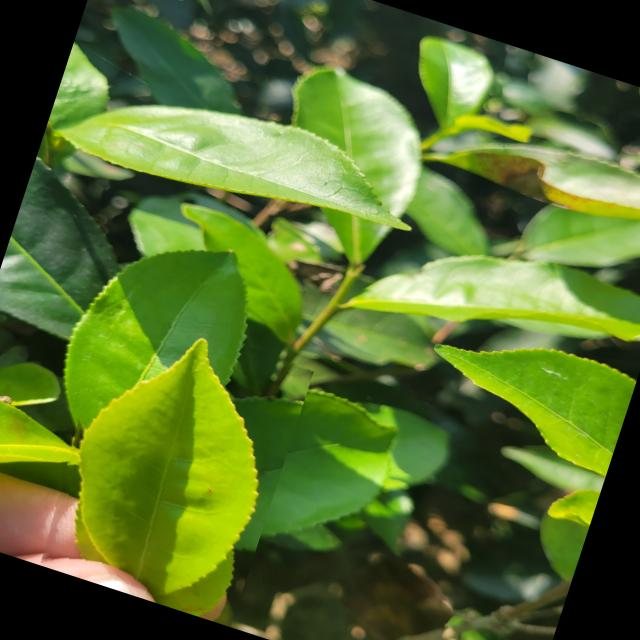Catagory A(1-2 days): (26, 292, 318, 628)
